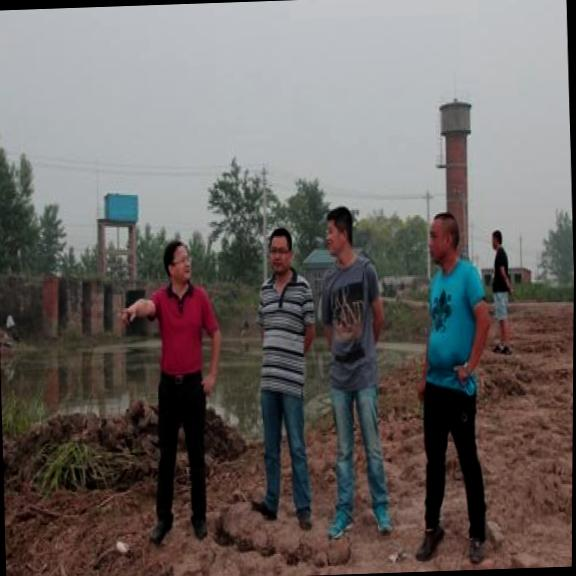no_safety_vest: (420, 258, 494, 398), (317, 254, 388, 388), (253, 268, 321, 398), (149, 280, 220, 384), (489, 246, 512, 294)
